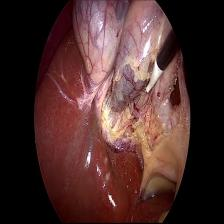Hook: (143, 55, 167, 96)
